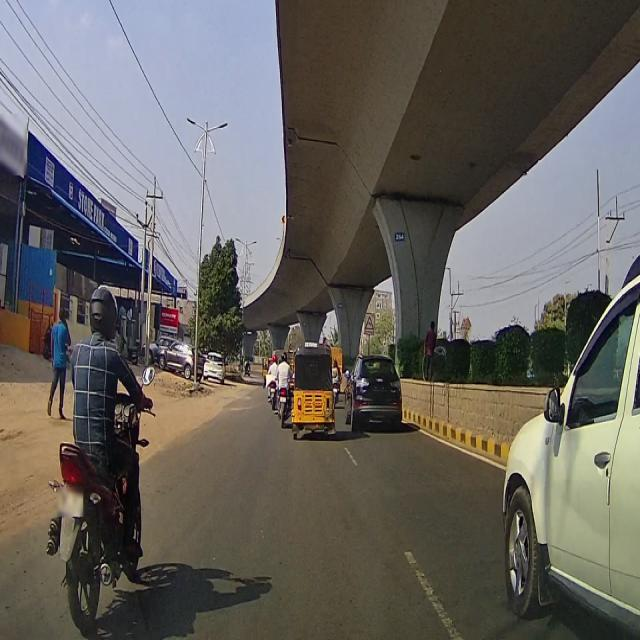left-hand-curve: (281, 214, 285, 225)
